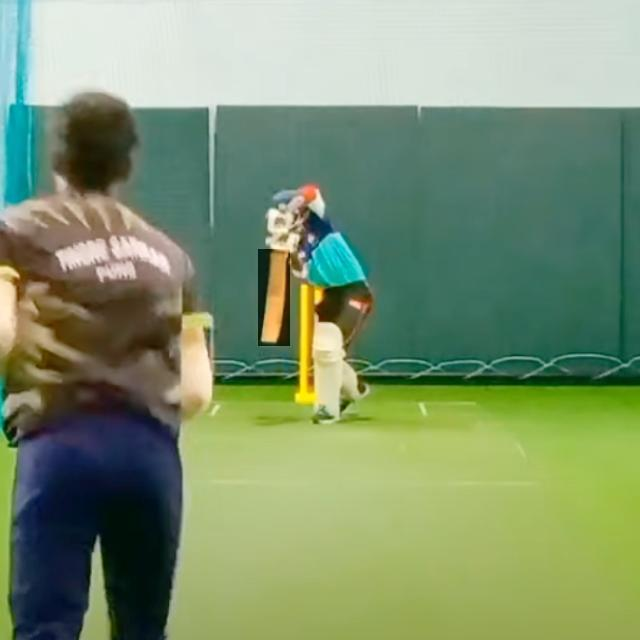bat: (258, 249, 289, 347)
toe: (258, 335, 279, 344)
